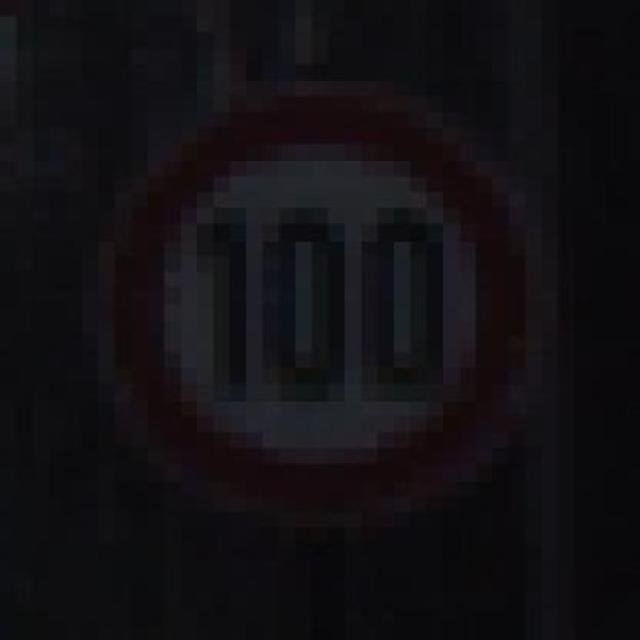forb_speed_over_100: (112, 98, 535, 513)
